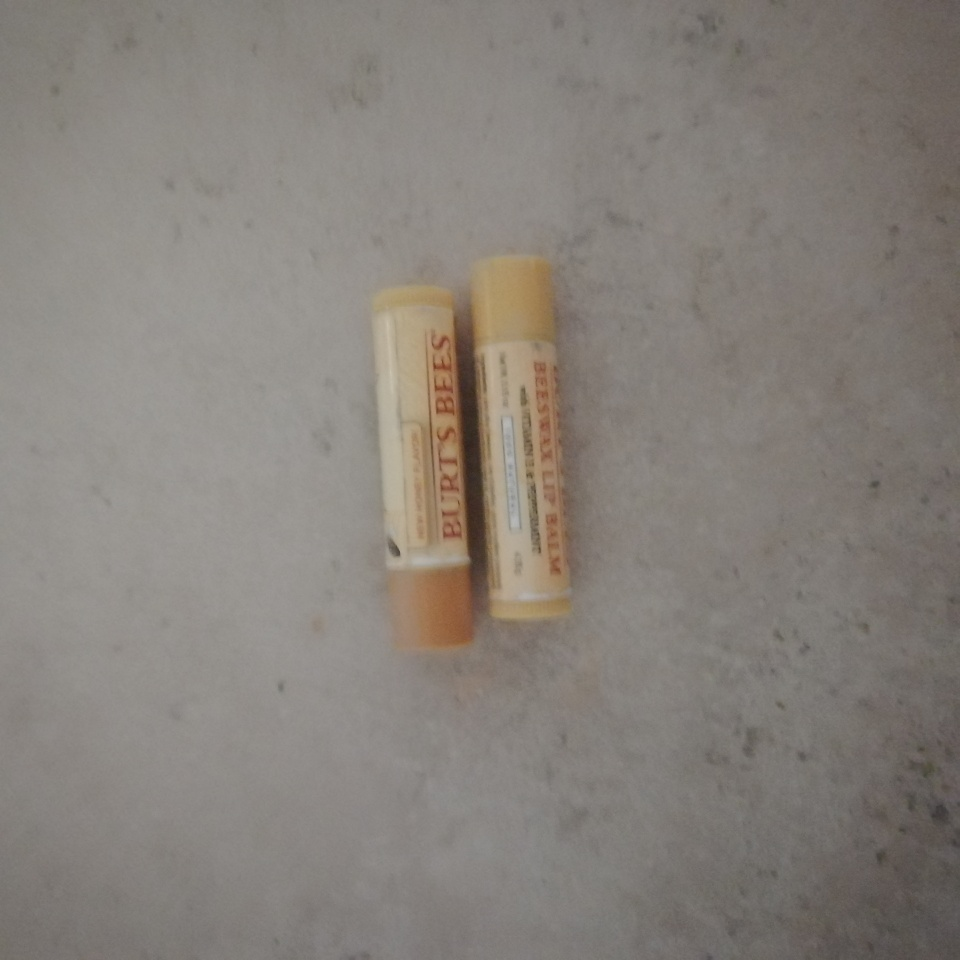chapstick: (469, 255, 576, 620), (371, 284, 477, 648)
